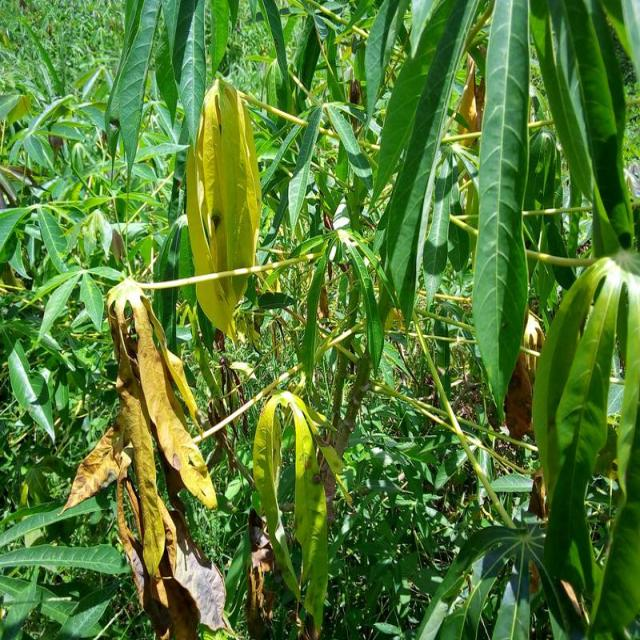cassava leaf: (373, 0, 478, 326), (471, 0, 531, 423), (184, 75, 262, 341)
